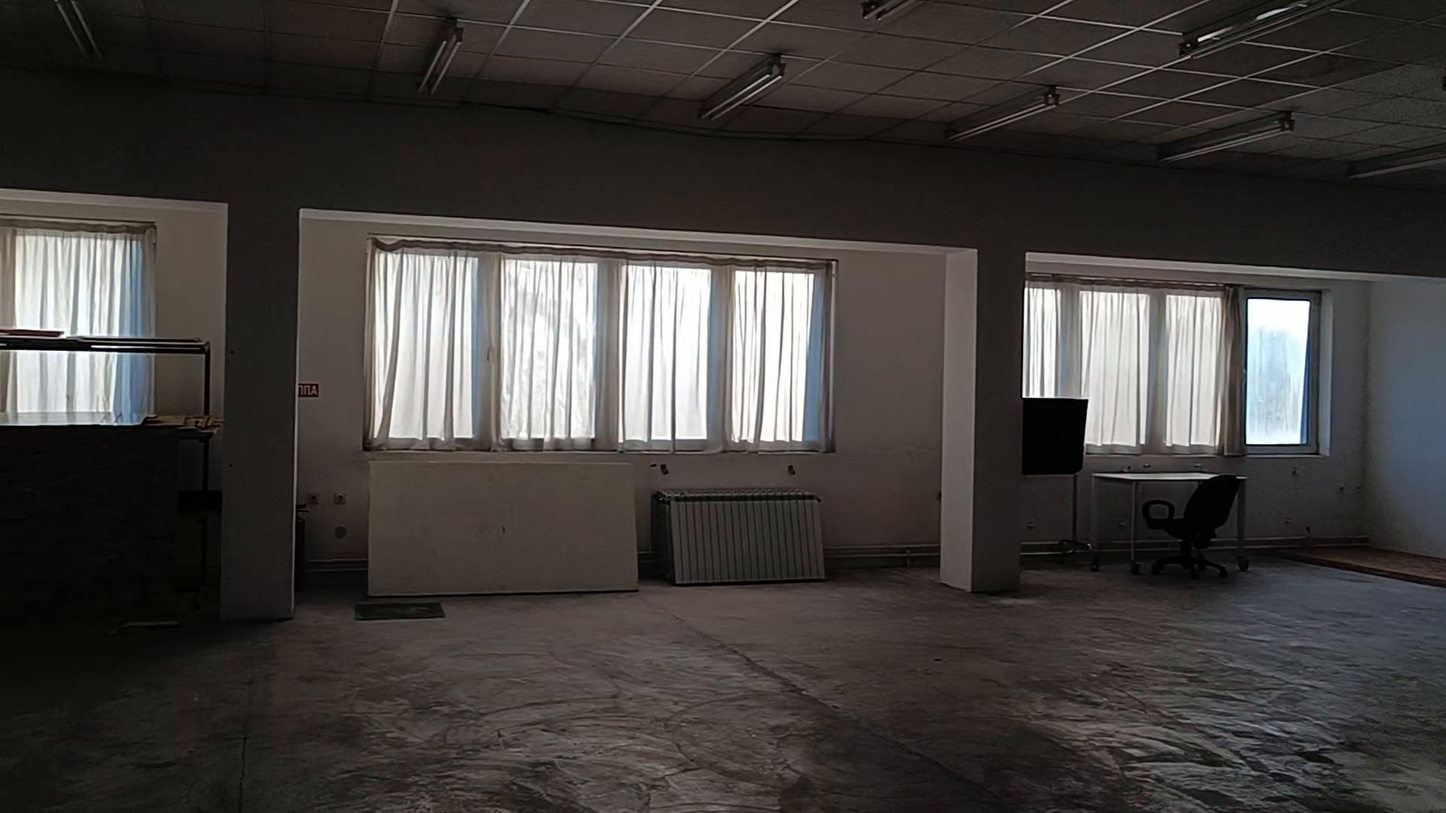ceiling: (0, 0, 1445, 187)
floor: (0, 561, 1445, 812)
wall: (6, 93, 1445, 615), (833, 261, 944, 555)
